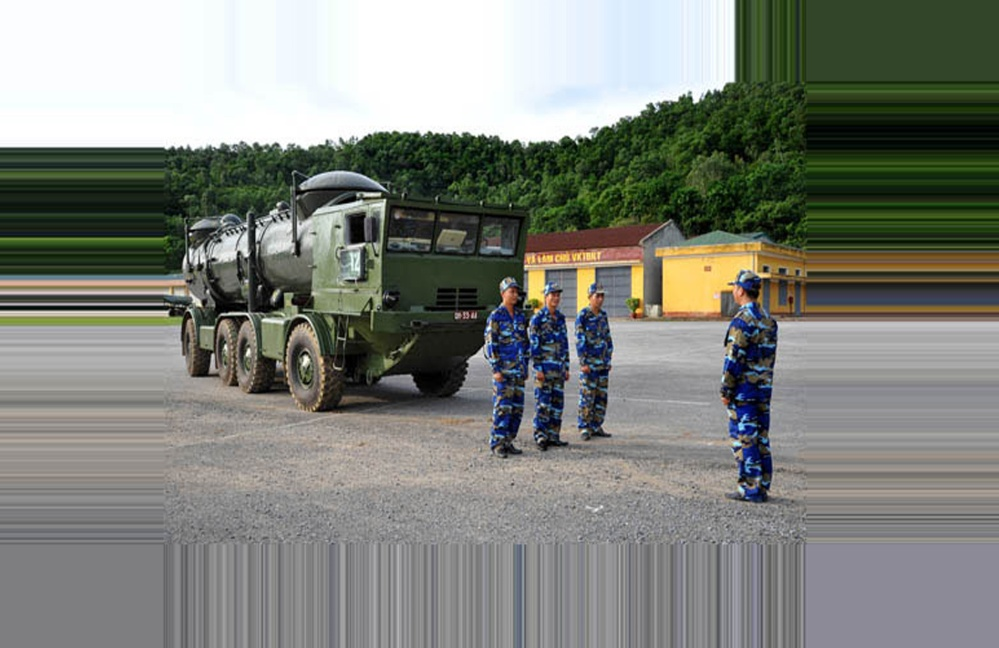plate: (448, 308, 482, 323)
